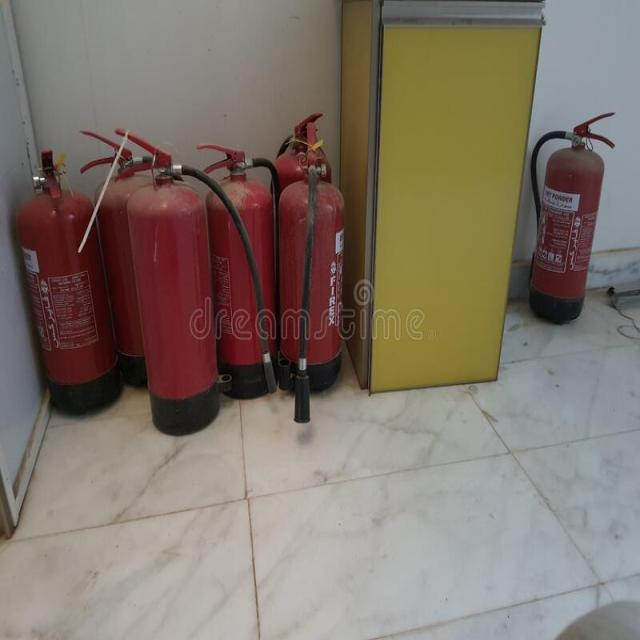fire_extinguisher: (111, 124, 278, 438), (76, 125, 210, 392), (11, 147, 127, 418), (192, 139, 288, 403), (273, 122, 351, 426), (523, 108, 620, 330), (264, 110, 334, 348)
